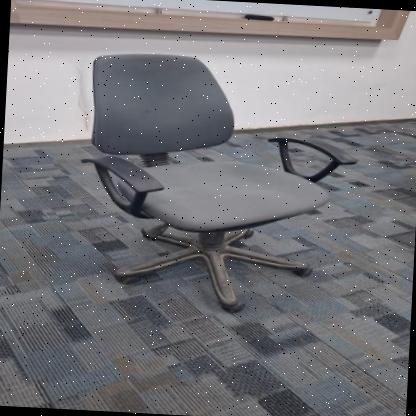chair: (70, 44, 366, 322)
